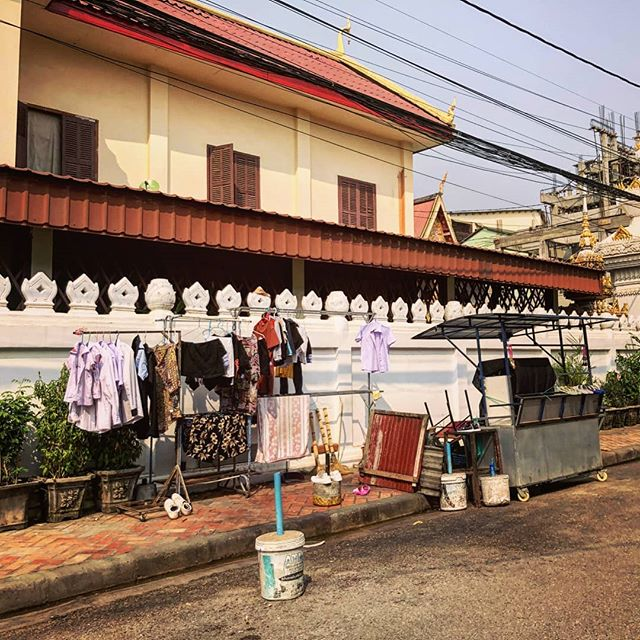building: (1, 1, 582, 432)
food stand: (423, 314, 622, 528)
street: (86, 472, 637, 640)
